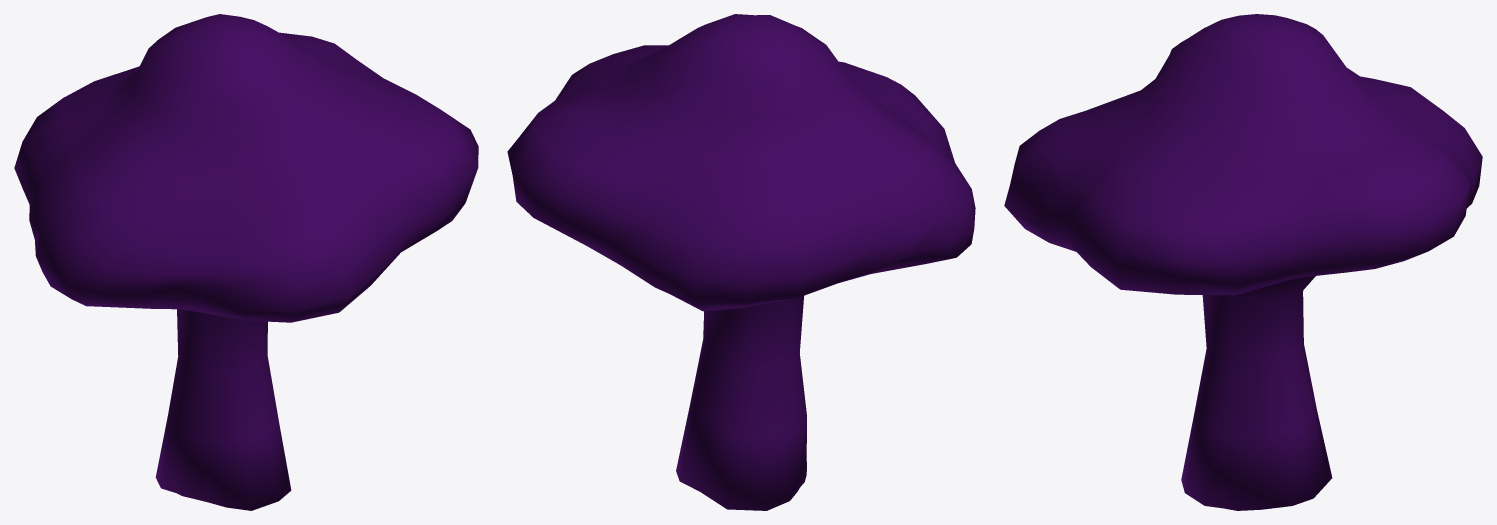
File: HongoVioleta.fbx
The picture shows the model from 3 angles, left to right: view 1: azimuth 30°, elevation 25°; view 2: azimuth 150°, elevation 25°; view 3: azimuth 270°, elevation 25°; orthographic projection.
Parts seen in each view (by area): view 1: _low.001; view 2: _low.001; view 3: _low.001.
Part boxes in pixels (x1,y1,x2,y2): _low.001: (14, 14, 478, 510); _low.001: (507, 14, 975, 510); _low.001: (1004, 14, 1482, 510).
Bounding box in the file's own units: 129 × 139 × 129.
